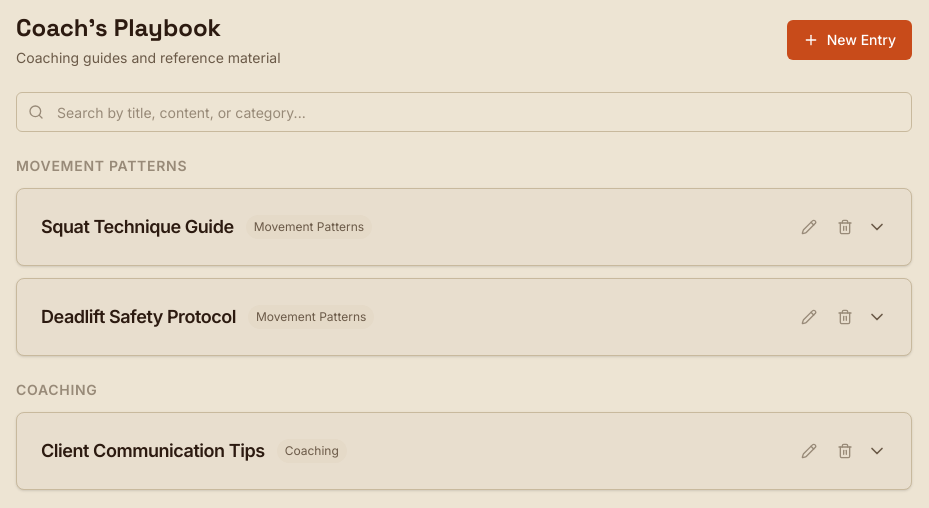
it: PlaybookPage › filters entries based on search term
Expected: the heading "Squat Technique Guide" is shown, top-left (41, 213), bottom-right (234, 241)
Type "squat" into the field with placeholder "Search by title, content, or category..." at (464, 112), box top-left (16, 92), bottom-right (912, 132)
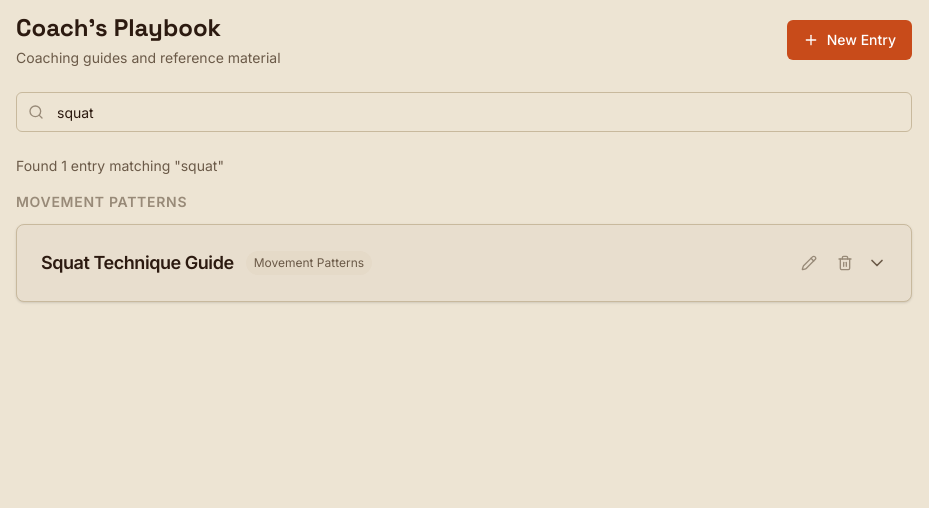
Expected: the heading "Squat Technique Guide" is shown, top-left (41, 249), bottom-right (234, 277)
Now the heading "Client Communication Tips" is gone
Now the text "Found 1 entry matching \"squat\"" is shown, box top-left (16, 157), bottom-right (224, 174)
